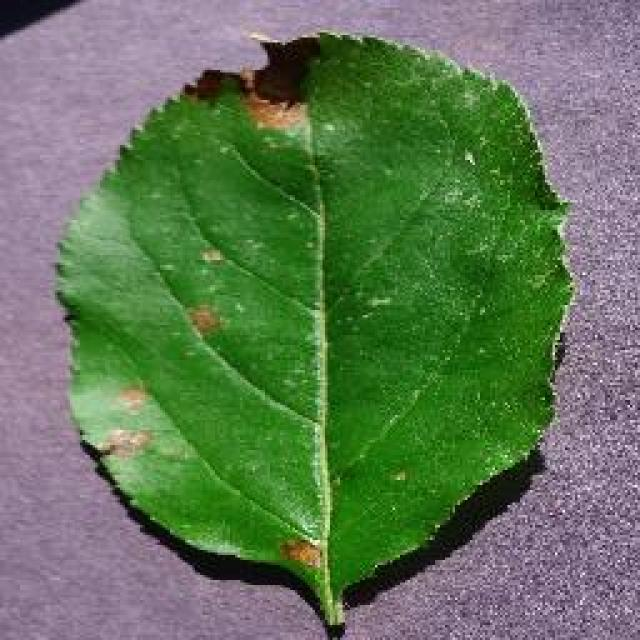apple healthy: (50, 25, 578, 637)
